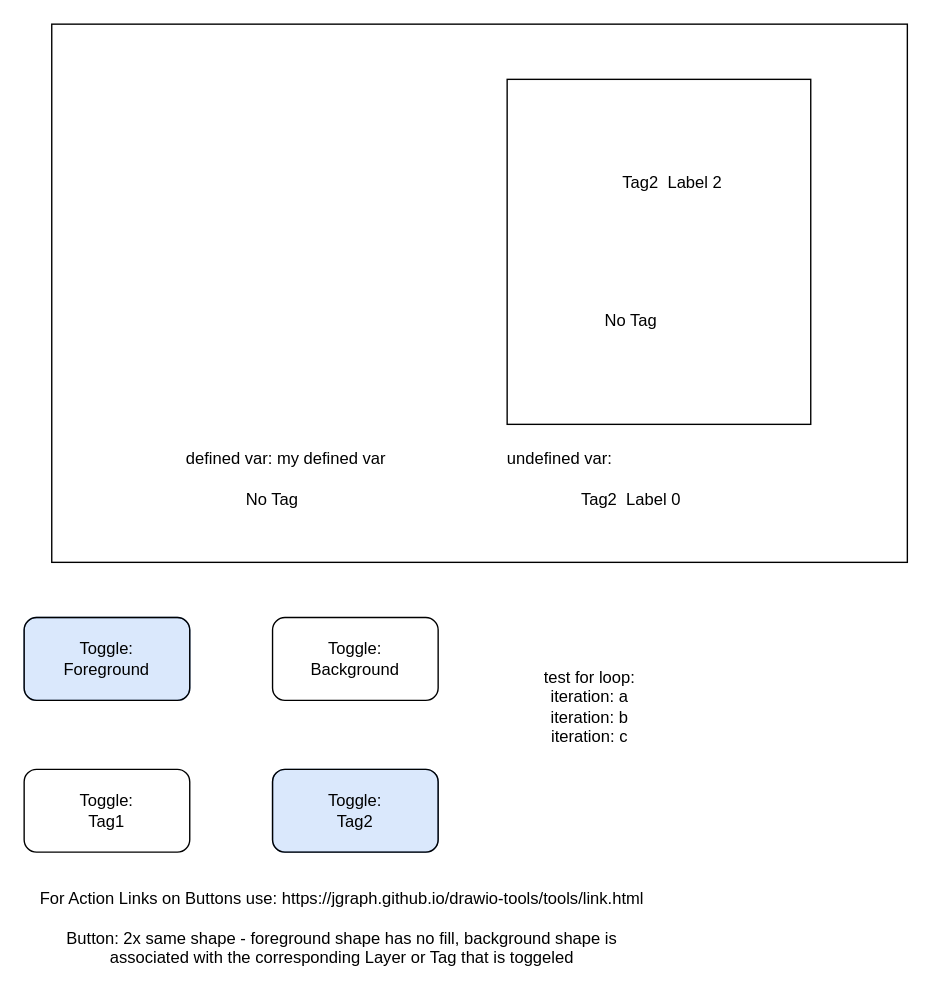
This 932x1001 diagram has some shape labels left out. Each missing label, with the box of its shape:
Layer: Foreground: (506, 78, 811, 424)
Layer: Page: (50, 23, 907, 562)
